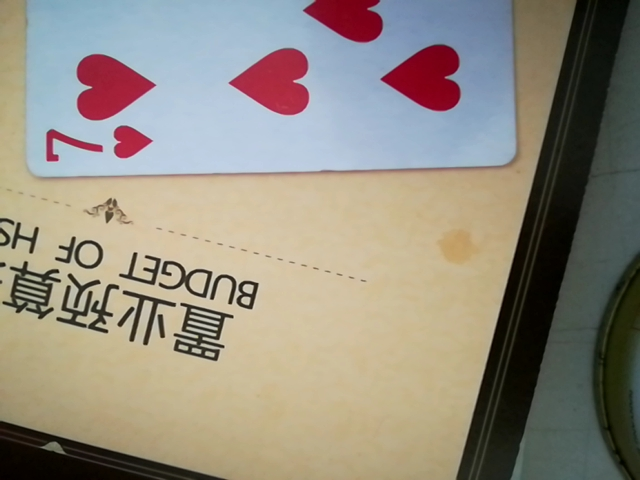hx 7: (19, 0, 517, 177)
